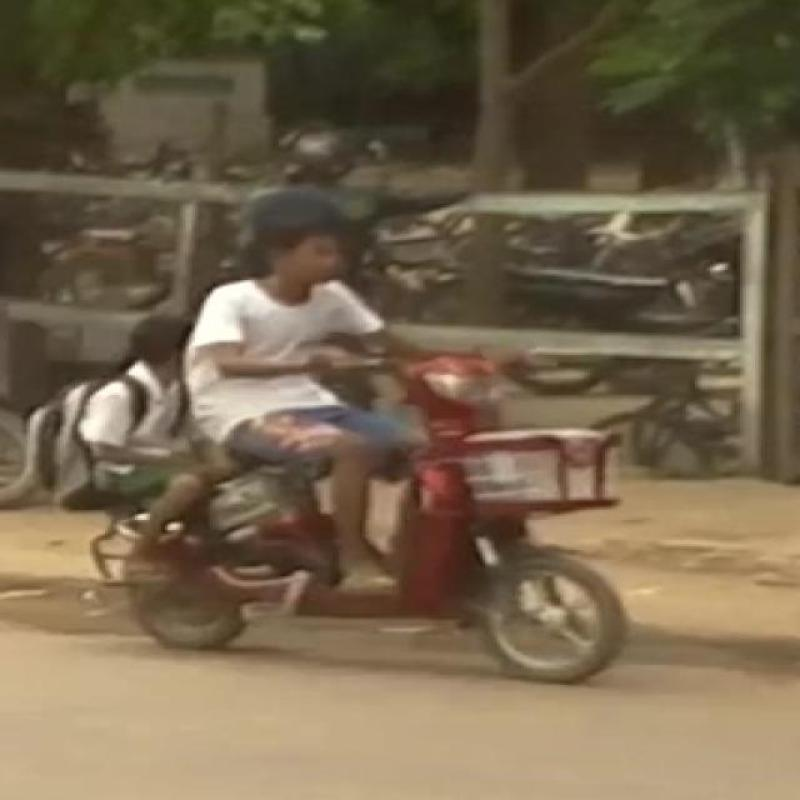nohelmet: (234, 183, 378, 292)
